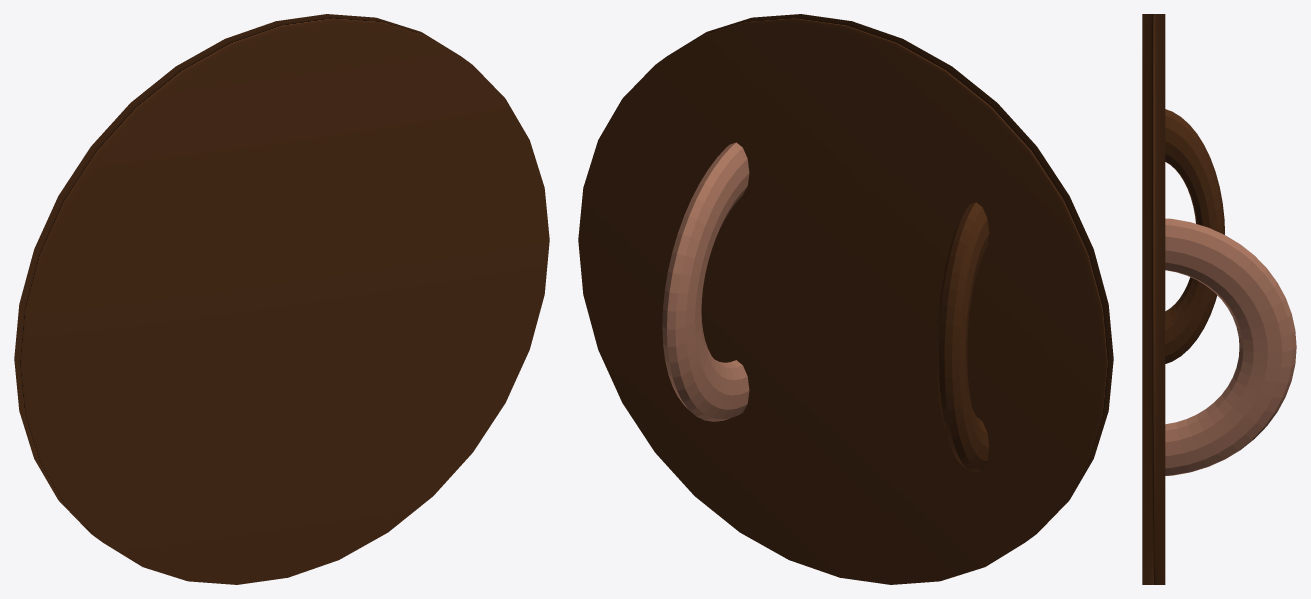
File: shield.fbx
3 renders of one model, left to right at view 1: azimuth 30°, elevation 25°; view 2: azimuth 150°, elevation 25°; view 3: azimuth 270°, elevation 25°, orthographic. The views are drawn at different scales.
Parts seen in each view (by area): view 1: ShieldFace; view 2: ShieldFace, Strap, Handle; view 3: Strap, ShieldFace, Handle.
Part boxes in pixels (x1=…): ShieldFace: x1=14, y1=14, x2=549, y2=584; ShieldFace: x1=578, y1=14, x2=1113, y2=584; Strap: x1=662, y1=142, x2=749, y2=421; Handle: x1=937, y1=202, x2=989, y2=472; Strap: x1=1165, y1=218, x2=1296, y2=475; ShieldFace: x1=1142, y1=14, x2=1165, y2=584; Handle: x1=1165, y1=109, x2=1224, y2=363.
Bounding box in the file's own units: 200 × 200 × 54.
